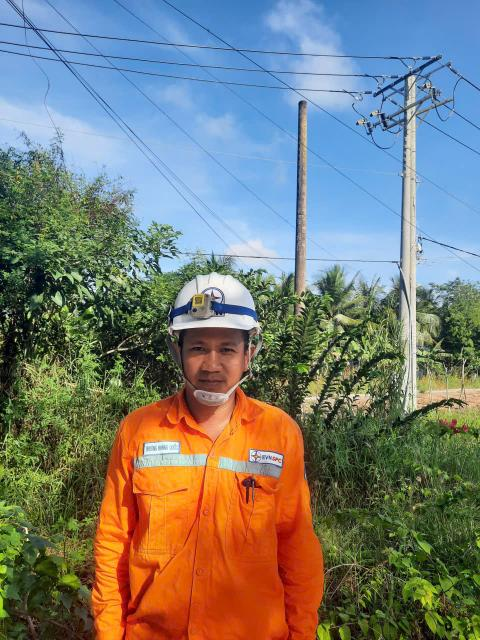helmet: (158, 258, 273, 348)
